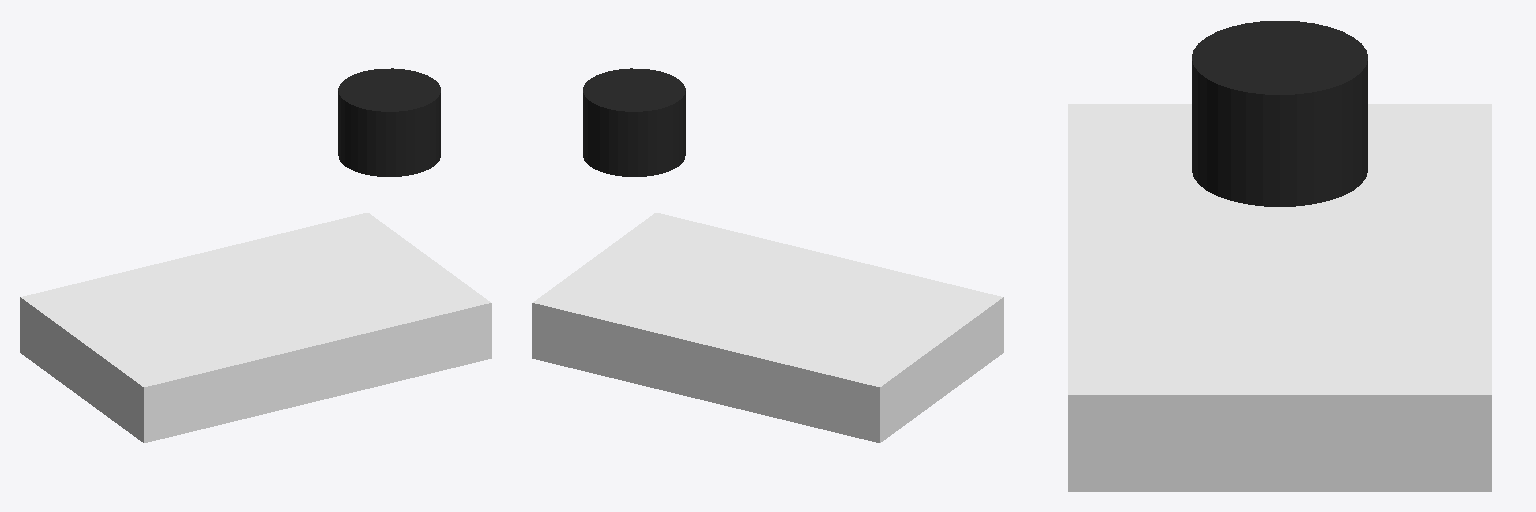
robot.urdf — cartographer_wheeltec_3d:
<!--
  Copyright 2016 The Cartographer Authors

  Licensed under the Apache License, Version 2.0 (the "License");
  you may not use this file except in compliance with the License.
  You may obtain a copy of the License at

       http://www.apache.org/licenses/LICENSE-2.0

  Unless required by applicable law or agreed to in writing, software
  distributed under the License is distributed on an "AS IS" BASIS,
  WITHOUT WARRANTIES OR CONDITIONS OF ANY KIND, either express or implied.
  See the License for the specific language governing permissions and
  limitations under the License.
-->

<robot name="cartographer_wheeltec_3d">
  <material name="orange">
    <color rgba="1.0 0.5 0.2 1" />
  </material>
  <material name="gray">
    <color rgba="0.2 0.2 0.2 1" />
  </material>
  <material name="white">
    <color rgba="1 1 1 1" />
  </material>
  
    <link name="base_link">
        <visual>
            <origin xyz=" 0.15 0 0.065" rpy="0 0 0" />
            <geometry>
                <box size="0.39 0.24 0.06"/>
            </geometry>
            <material name="white">
                <color rgba="1 1 1 1"/>
            </material>
        </visual>
    </link>   

  <link name="gyro_link">
    <visual>
      <origin xyz="0.0 0.0 0.0" />
      <geometry>
        <box size="0.06 0.04 0.02" />
      </geometry>
      <material name="orange" />
    </visual>
  </link>

  <link name="laser">
    <visual>
      <origin xyz="0.0 0.0 0.0" />
      <geometry>
        <cylinder length="0.07" radius="0.05" />
      </geometry>
      <material name="gray" />
    </visual>
  </link>

  <link name="base_footprint" />

  <joint name="base_to_link" type="fixed">
    <parent link="base_footprint" />
    <child link="base_link" />
    <origin xyz="0 0 0" rpy="0 0 0" />
  </joint>


  <joint name="base_to_gyro" type="fixed">
    <parent link="base_footprint" />
    <child link="gyro_link" />
    <origin xyz="0.2 0.0 0.0" rpy="0 0 0" />
  </joint>

  <joint name="base_to_laser" type="fixed">
    <parent link="base_footprint" />
    <child link="laser" />
    <origin xyz="0.3 0.0 0.25" rpy="0. 0. -1.571" />
  </joint>
</robot>

--- Facts derived from the render (not from the file) ---
Views: 3 orthographic renders of the robot side by side, from view 1: azimuth 30°, elevation 25°; view 2: azimuth 150°, elevation 25°; view 3: azimuth 270°, elevation 25°.
Model cartographer_wheeltec_3d with 4 links and 3 joints (3 fixed), rooted at base_footprint, posed every joint at zero.
Visible links, largest first — view 1: base_link, laser; view 2: base_link, laser; view 3: base_link, laser.
Boxes of the visible links, x1,y1,x2,y2 form: base_link: (20,213,491,442); laser: (338,68,440,176); base_link: (532,213,1003,442); laser: (583,68,685,176); base_link: (1068,104,1491,491); laser: (1192,21,1367,206).
Bounding box of the posed robot: 0.395 × 0.24 × 0.295 m (x, y, z).
Geometry: primitives only (box / cylinder / sphere), no mesh files.